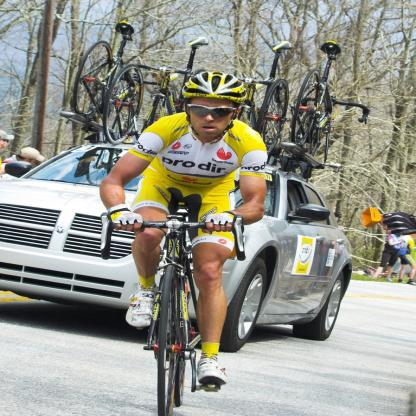Helmet: (177, 66, 248, 138)
